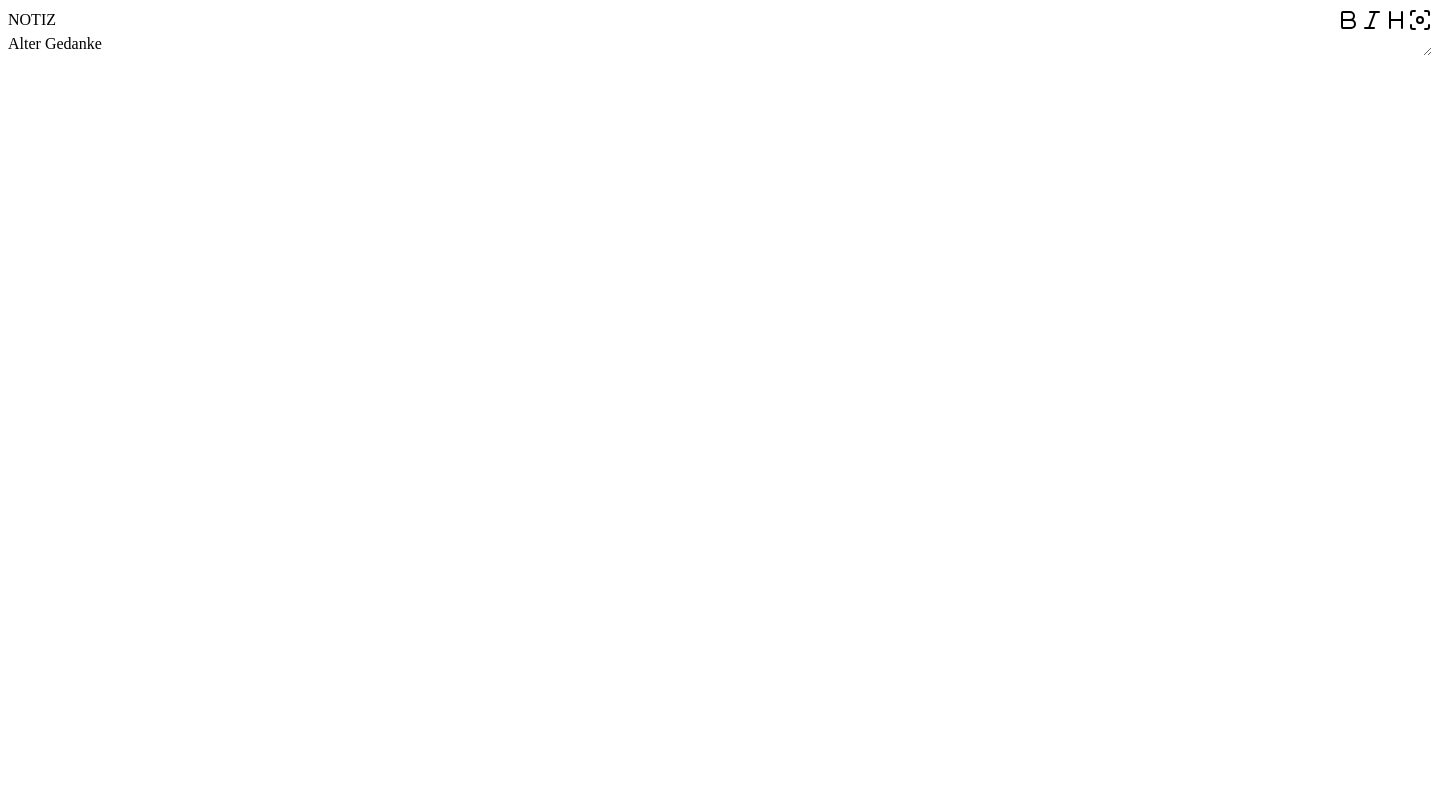
it: NoteEditor › edits the same controlled note in a nearly full focus surface
Click the button named "Im Fokus öffnen".
click(1420, 20)  # box [1408, 8, 1432, 32]
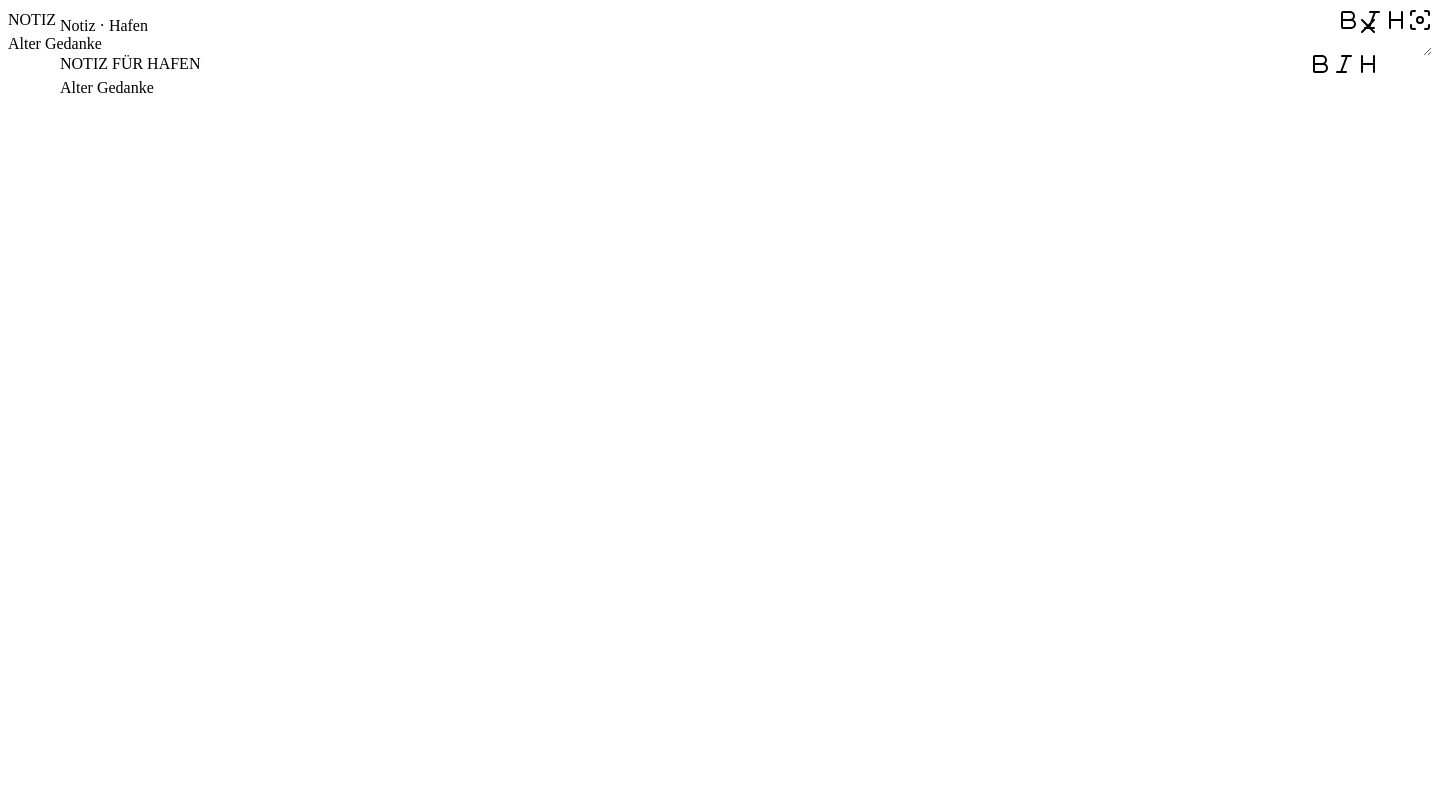
expect the 1st text box labelled "Alter Gedanke" is shown: met, box [8, 35, 102, 52]
expect the number of buttons named "Zurück zum Hafen" is 1: met, box [1356, 14, 1380, 38]
